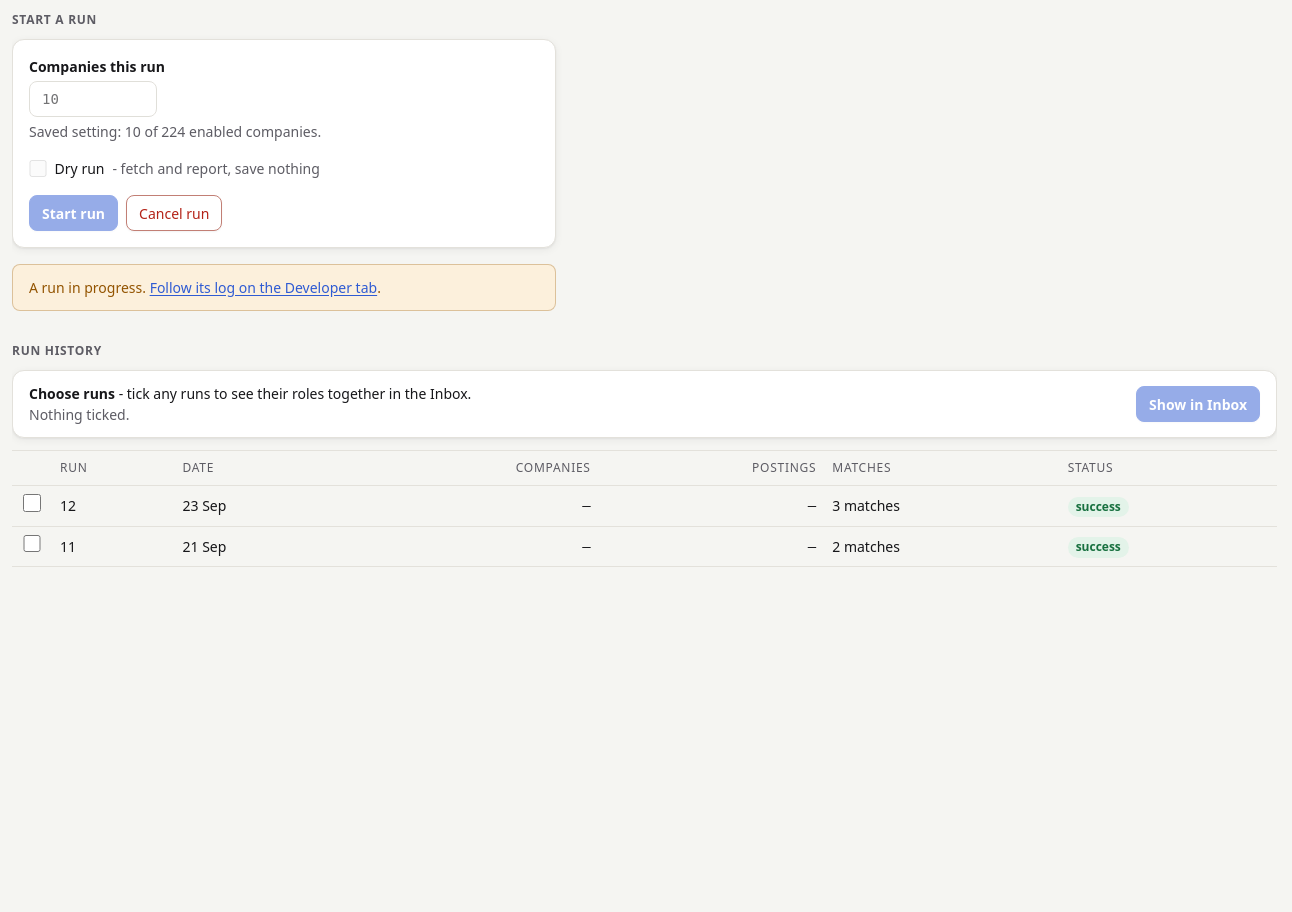
it: Runs tab: jobs it cannot control › a job left running across a web restart says it cannot be cancelled here
What coordinates should you click on to do the following:
click the button with class "cancel"
I would click on:
 (174, 213)
Its box is [126,195,222,231].
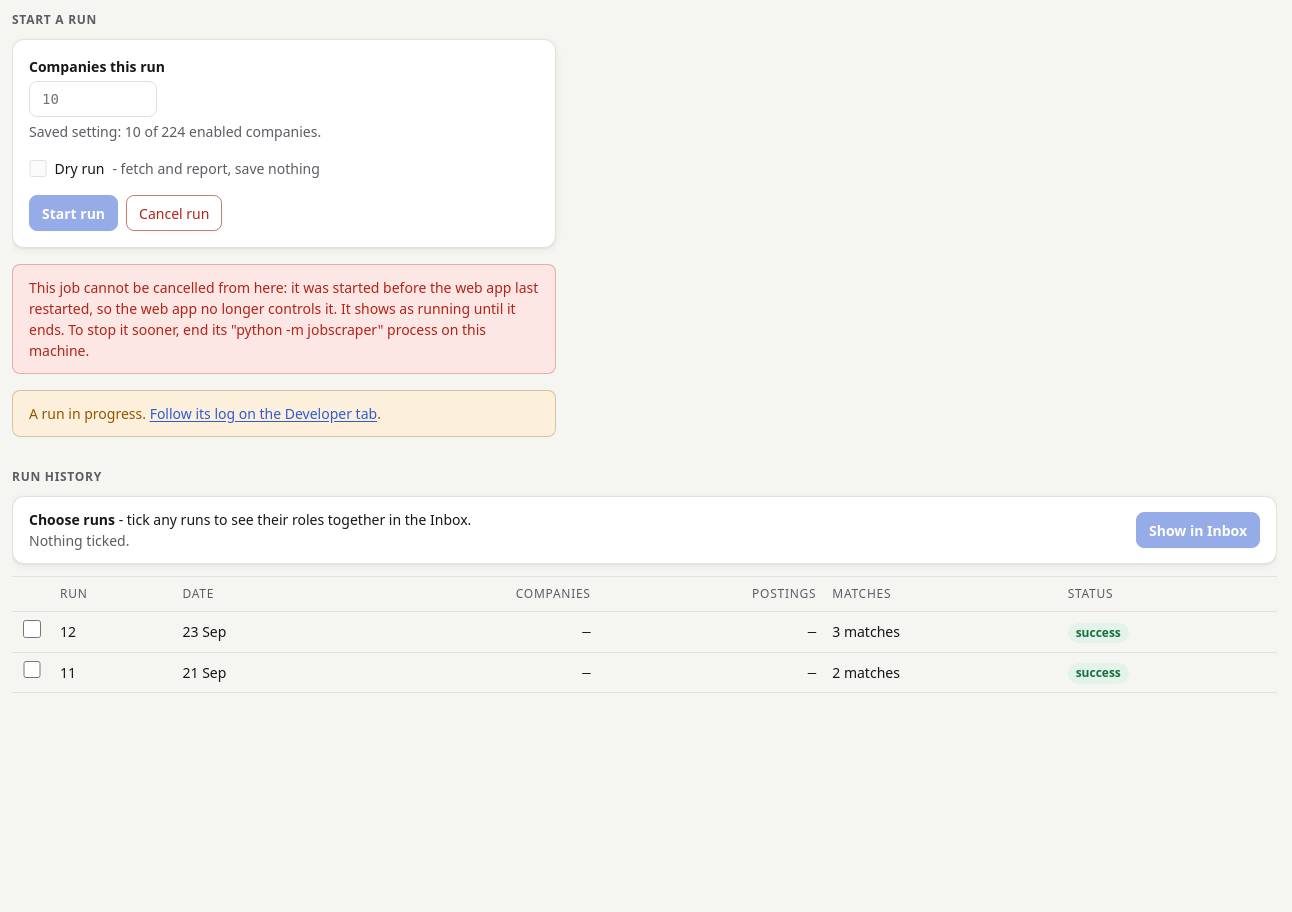
Check: the message "A run in progress. Follow its log on the Developer tab ." is shown, box [12,390,556,437]
Check: the 1st message shows "cannot be cancelled from here", box [29,278,538,360]
Check: the 1st message shows "restarted", box [29,278,538,360]
